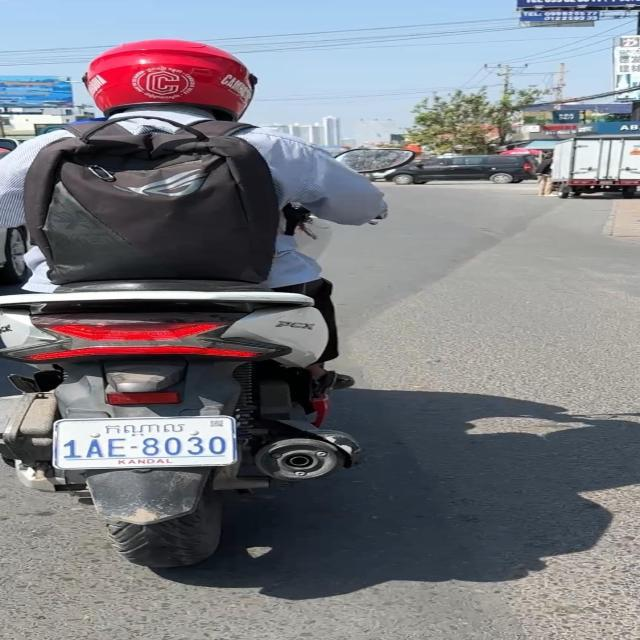Kandal: (101, 421, 186, 438)
